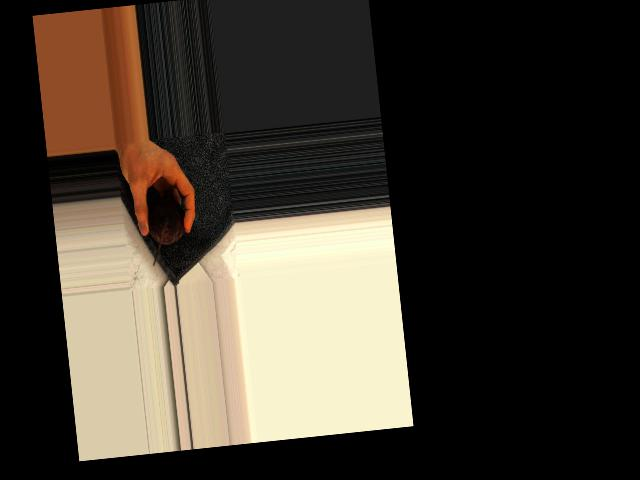beet: (145, 195, 189, 266)
